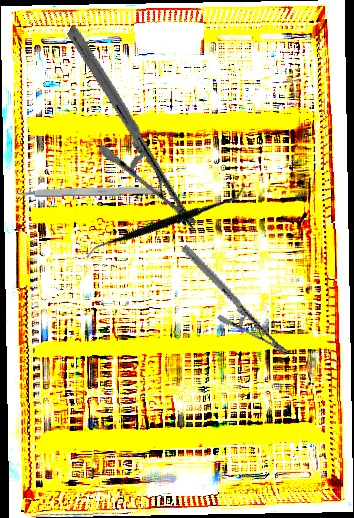Needle Holder: (13, 25, 251, 230), (160, 244, 310, 357)
Scalpel Handle: (15, 184, 166, 198)
Spatula Surgical: (84, 133, 247, 309)
